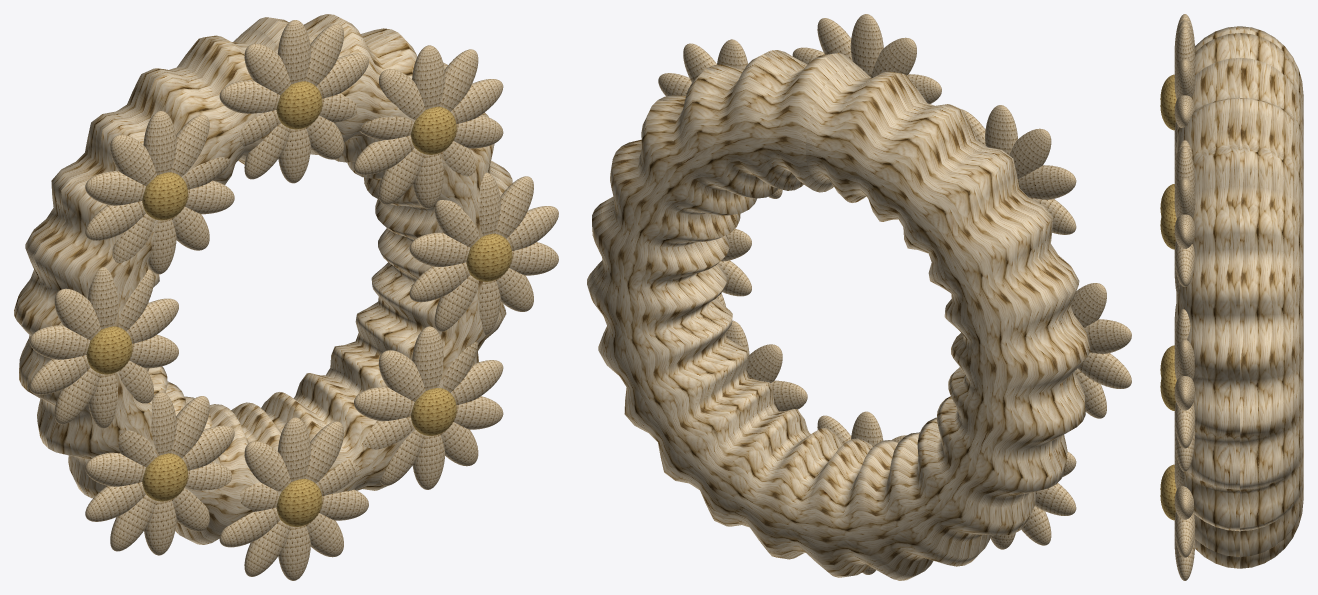
The picture shows the model from 3 angles, left to right: view 1: azimuth 30°, elevation 25°; view 2: azimuth 150°, elevation 25°; view 3: azimuth 270°, elevation 25°; orthographic projection. The views are drawn at different scales.
Size of the model in its own units: 2.03 by 2.06 by 0.4945.
3 materials, 3 textured.
